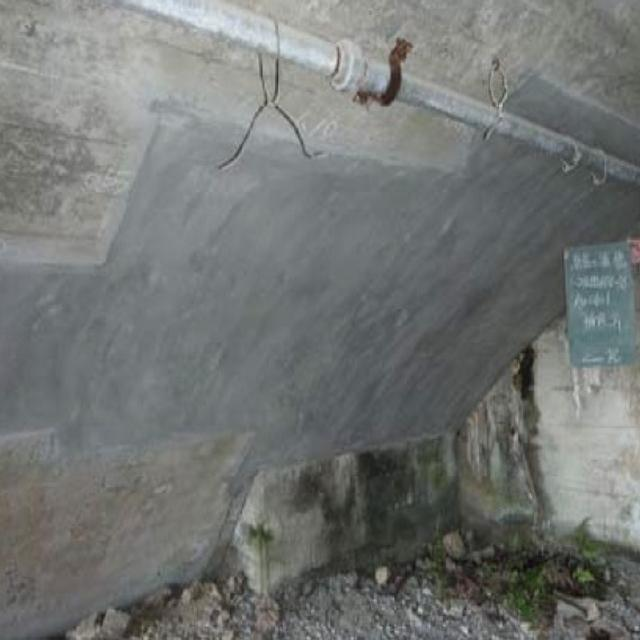leakage: (440, 344, 557, 554)
